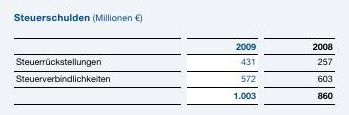table: (0, 0, 349, 115)
